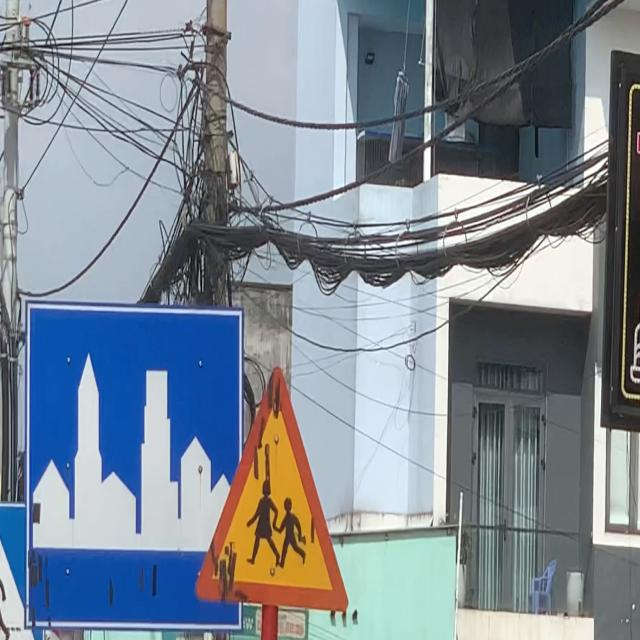Nguy hiem: (188, 356, 353, 626)
